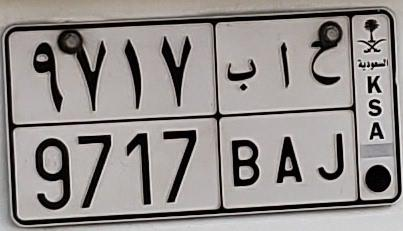1: (123, 38, 154, 206)
7: (75, 40, 115, 209), (159, 34, 197, 204)
9: (31, 40, 73, 211)
A: (275, 41, 305, 184)
B: (226, 59, 261, 190)
J: (311, 39, 346, 181)
